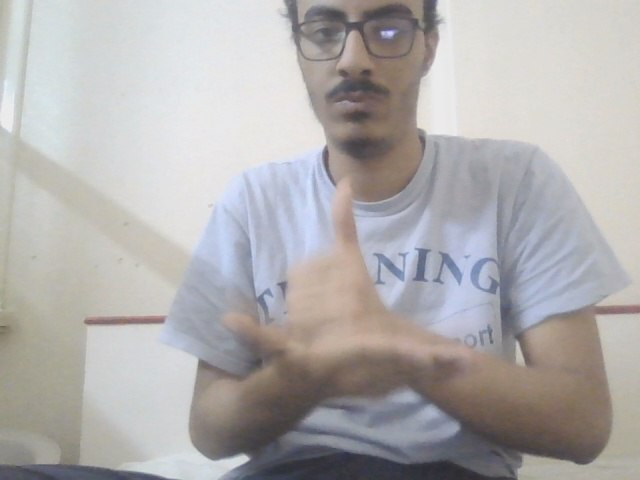Help: (216, 175, 472, 414)
